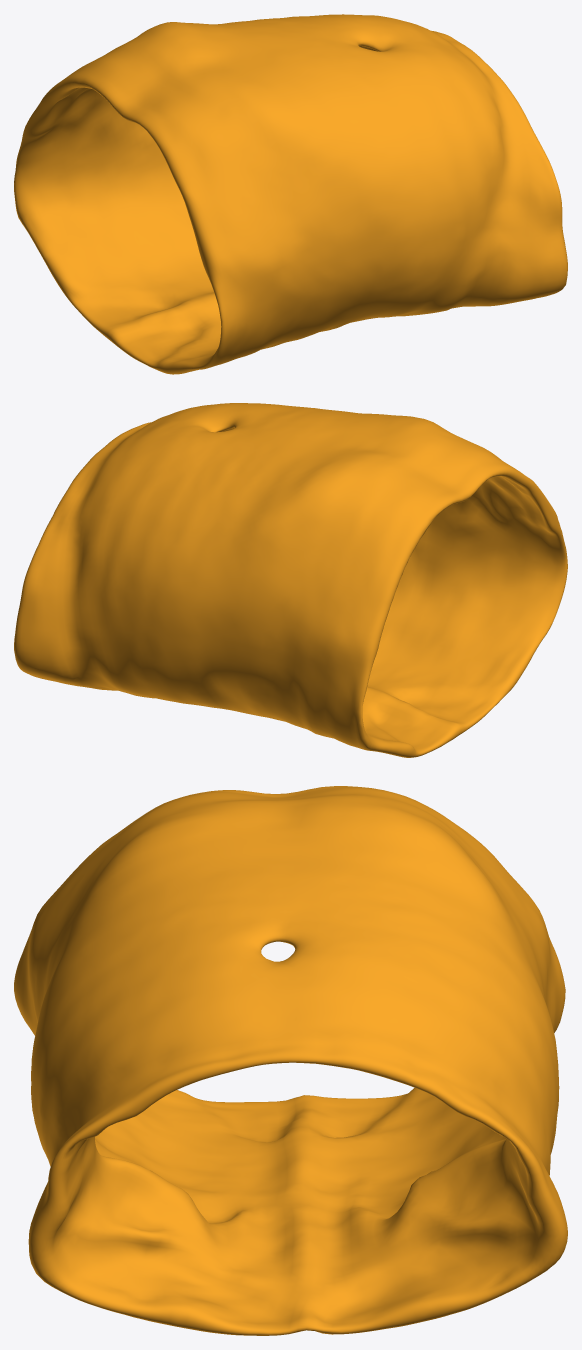
Rendered from SubcutaneousFat.obj.
3 views of the same model, one above another, from view 1: azimuth 30°, elevation 25°; view 2: azimuth 150°, elevation 25°; view 3: azimuth 270°, elevation 25° (orthographic). The views are drawn at different scales.
Parts seen in each view (by area): view 1: SubcutaneousFat; view 2: SubcutaneousFat; view 3: SubcutaneousFat.
Part boxes in pixels (x1=…): SubcutaneousFat: x1=14, y1=14, x2=567, y2=374; SubcutaneousFat: x1=14, y1=403, x2=567, y2=757; SubcutaneousFat: x1=14, y1=786, x2=567, y2=1335.
Bounding box in the file's own units: 13.67 × 9.92 × 13.91.
